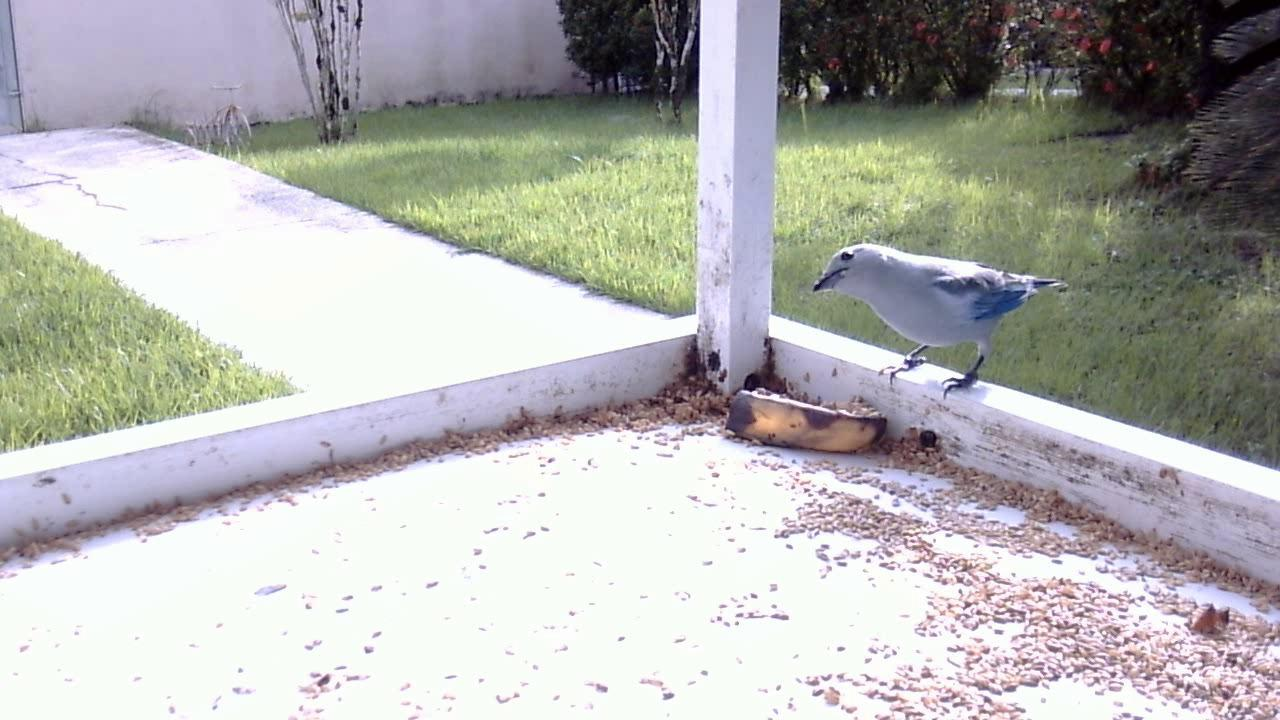sanhaco_da_amazonia: (808, 236, 1067, 404)
